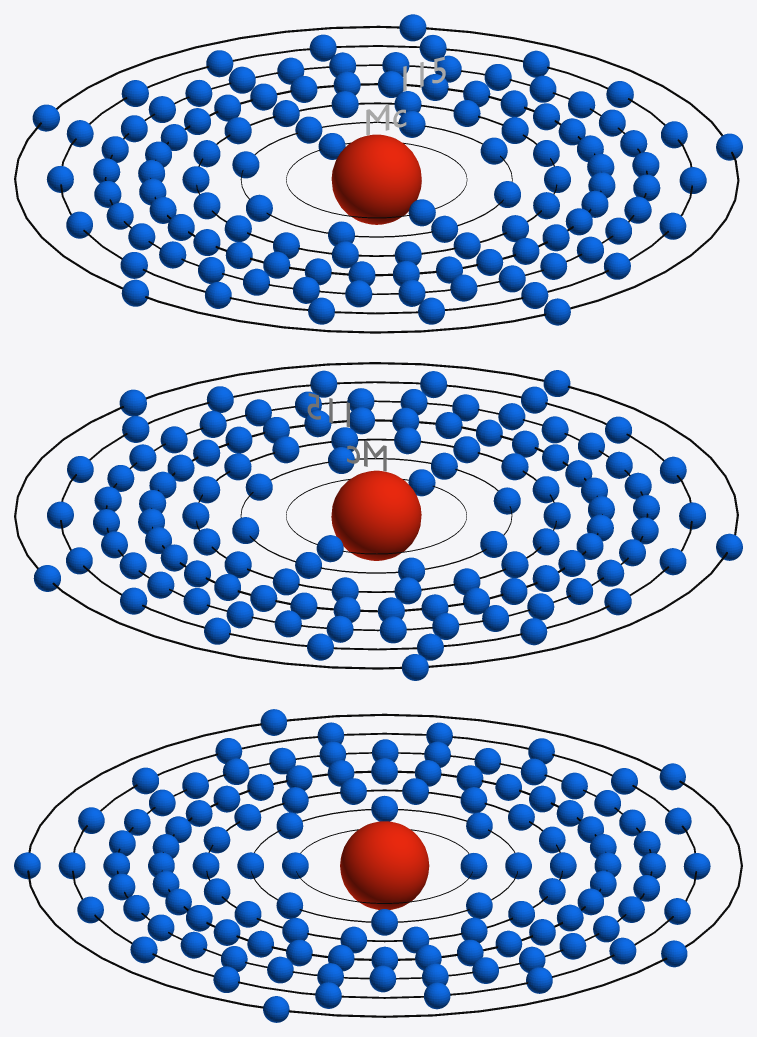
3 views of the same model, one above another, from view 1: azimuth 30°, elevation 25°; view 2: azimuth 150°, elevation 25°; view 3: azimuth 270°, elevation 25° (orthographic).
Visible parts, largest first — view 1: Mc5, Mc4, Mc6, Mc3, Proton, Mc2, n7, Mc7, n6, n5, Mc1, n3 (+2 smaller); view 2: Mc5, Mc4, Mc6, Mc3, Proton, Mc2, n7, Mc7, n6, n5, Mc1, n3 (+2 smaller); view 3: Mc5, Mc4, Mc3, Mc6, Proton, Mc2, n7, Mc7, n6, n5, Mc1, n3 (+2 smaller).
Part boxes in pixels (left/top/right/bottom): Mc5: left=93, top=52, right=660, bottom=307; Mc4: left=138, top=71, right=615, bottom=286; Mc6: left=46, top=34, right=706, bottom=324; Mc3: left=182, top=91, right=570, bottom=268; Proton: left=331, top=134, right=421, bottom=224; Mc2: left=232, top=111, right=520, bottom=246; n7: left=14, top=25, right=739, bottom=333; Mc7: left=32, top=14, right=742, bottom=325; n6: left=60, top=45, right=692, bottom=314; n5: left=104, top=64, right=647, bottom=294; Mc1: left=318, top=133, right=435, bottom=226; n3: left=196, top=102, right=557, bottom=256; Mc5: left=93, top=388, right=659, bottom=643; Mc4: left=138, top=407, right=614, bottom=622; Mc6: left=47, top=370, right=705, bottom=660; Mc3: left=182, top=427, right=570, bottom=604; Proton: left=331, top=470, right=421, bottom=560; Mc2: left=232, top=447, right=520, bottom=582; n7: left=14, top=362, right=738, bottom=669; Mc7: left=33, top=370, right=742, bottom=680; n6: left=60, top=381, right=692, bottom=650; n5: left=105, top=400, right=648, bottom=631; Mc1: left=316, top=469, right=435, bottom=562; n3: left=196, top=438, right=556, bottom=592; Mc5: left=103, top=739, right=665, bottom=992; Mc4: left=148, top=758, right=621, bottom=971; Mc3: left=192, top=778, right=576, bottom=953; Mc6: left=58, top=722, right=710, bottom=1009; Proton: left=340, top=821, right=429, bottom=909; Mc2: left=237, top=795, right=531, bottom=935; n7: left=27, top=713, right=742, bottom=1017; Mc7: left=14, top=709, right=687, bottom=1022; n6: left=72, top=732, right=696, bottom=998; n5: left=117, top=752, right=652, bottom=979; Mc1: left=282, top=852, right=487, bottom=879; n3: left=206, top=789, right=562, bottom=942.
Size of the model in its own units: 802 by 180 by 816.
